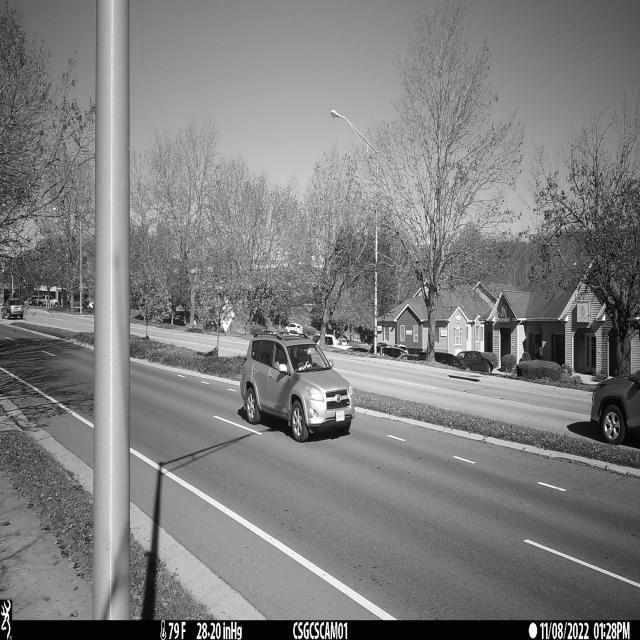SUV: (240, 331, 355, 443)
